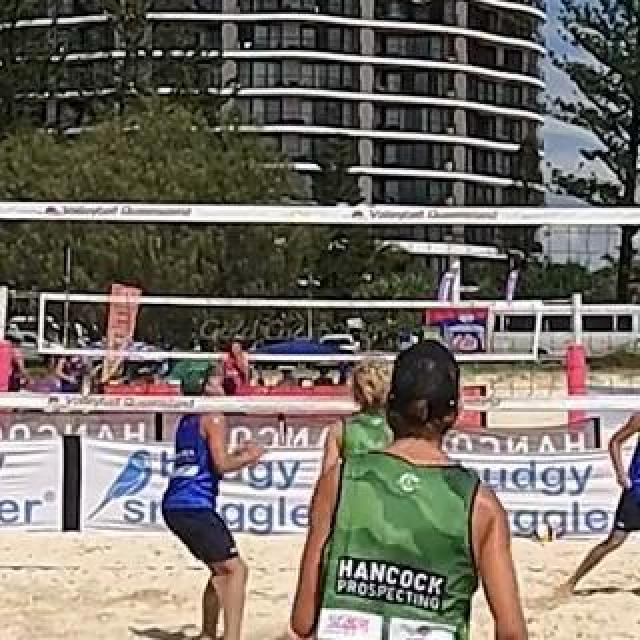volleyball: (531, 521, 555, 547)
